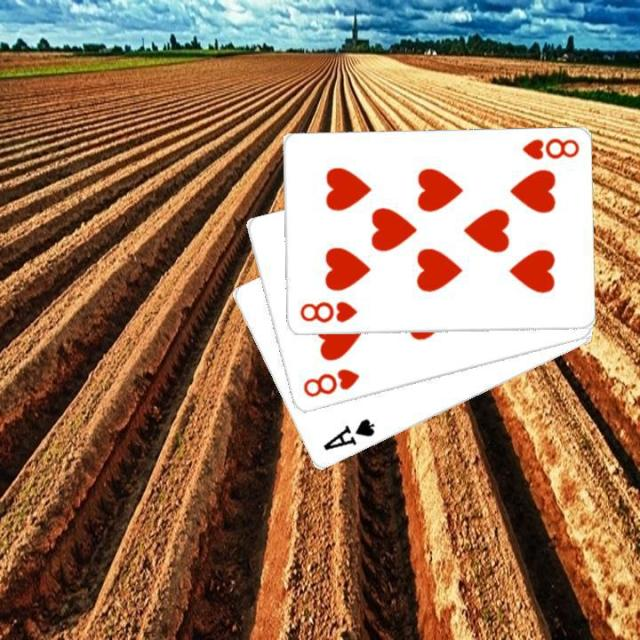8H: (298, 364, 362, 400), (296, 298, 359, 325), (518, 135, 580, 162)
AS: (319, 415, 377, 453)
